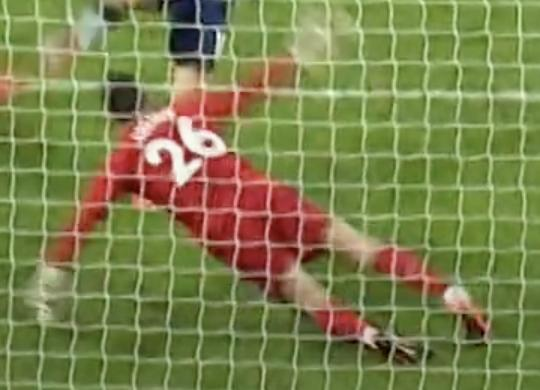goalkeeper: (4, 10, 508, 356)
